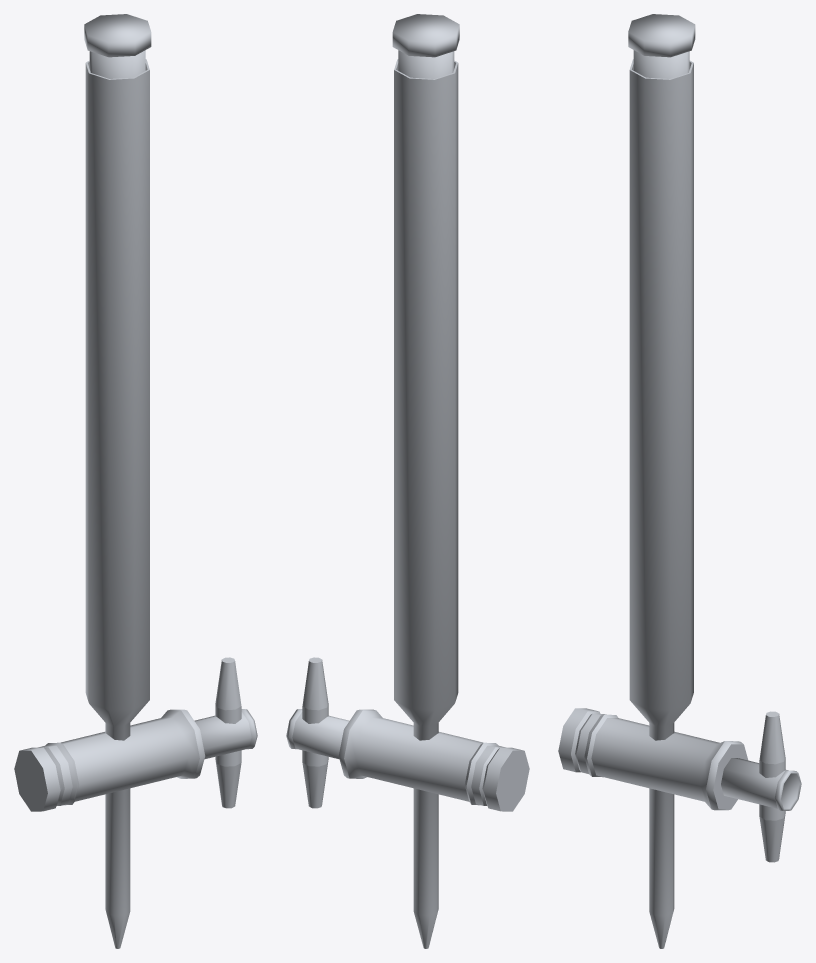
3 views of the same model, side by side, from view 1: azimuth 30°, elevation 25°; view 2: azimuth 150°, elevation 25°; view 3: azimuth 330°, elevation 25° (orthographic).
Visible parts, largest first — view 1: funnel_buret; view 2: funnel_buret; view 3: funnel_buret.
Boxes of the visible parts, box(x1,y1,x2,y2) form: funnel_buret: box(14, 14, 257, 948); funnel_buret: box(286, 14, 529, 948); funnel_buret: box(558, 14, 801, 948).
Bounding box in the file's own units: 21.64 × 87.95 × 6.58.
Materials: 1 (1 with a texture image).
